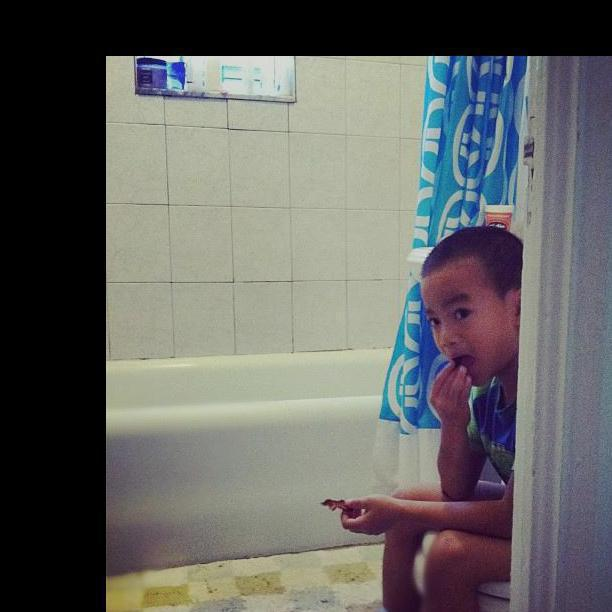Sanitario: (453, 356, 612, 612)
